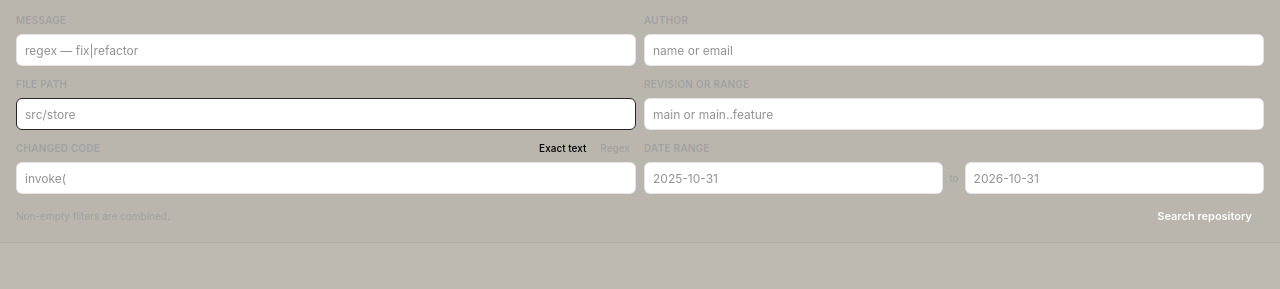
AdvancedHistorySearch async isolation › debounces path suggestions for 200ms and preserves input focus when they land
Type "repo" into the dropdown with placeholder "src/store" at (326, 114), box [16,98,636,130]
Wait 200 ms
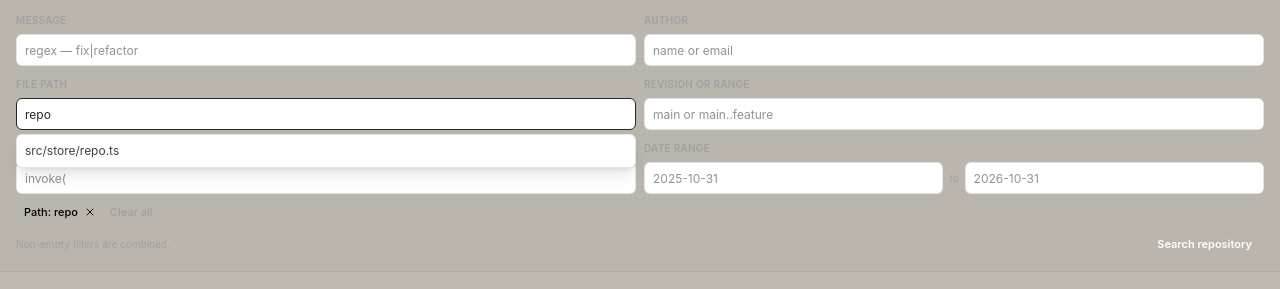
Expected: the option "src/store/repo.ts" is shown, [17,139,635,163]
